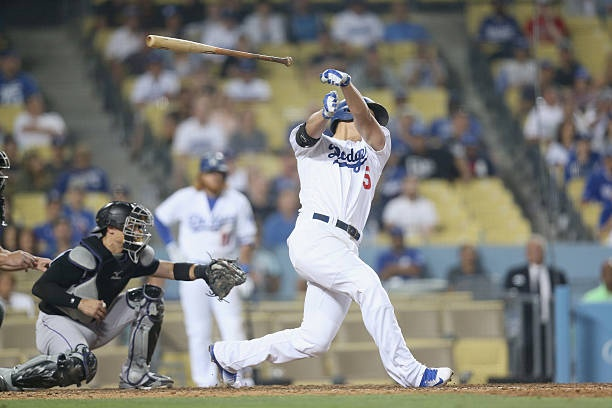bita: (148, 34, 300, 67)
